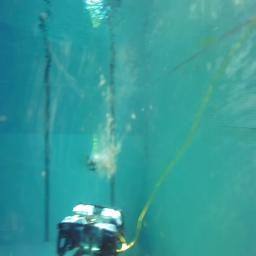Full: (86, 154, 104, 171)
Side: (57, 200, 127, 256)
